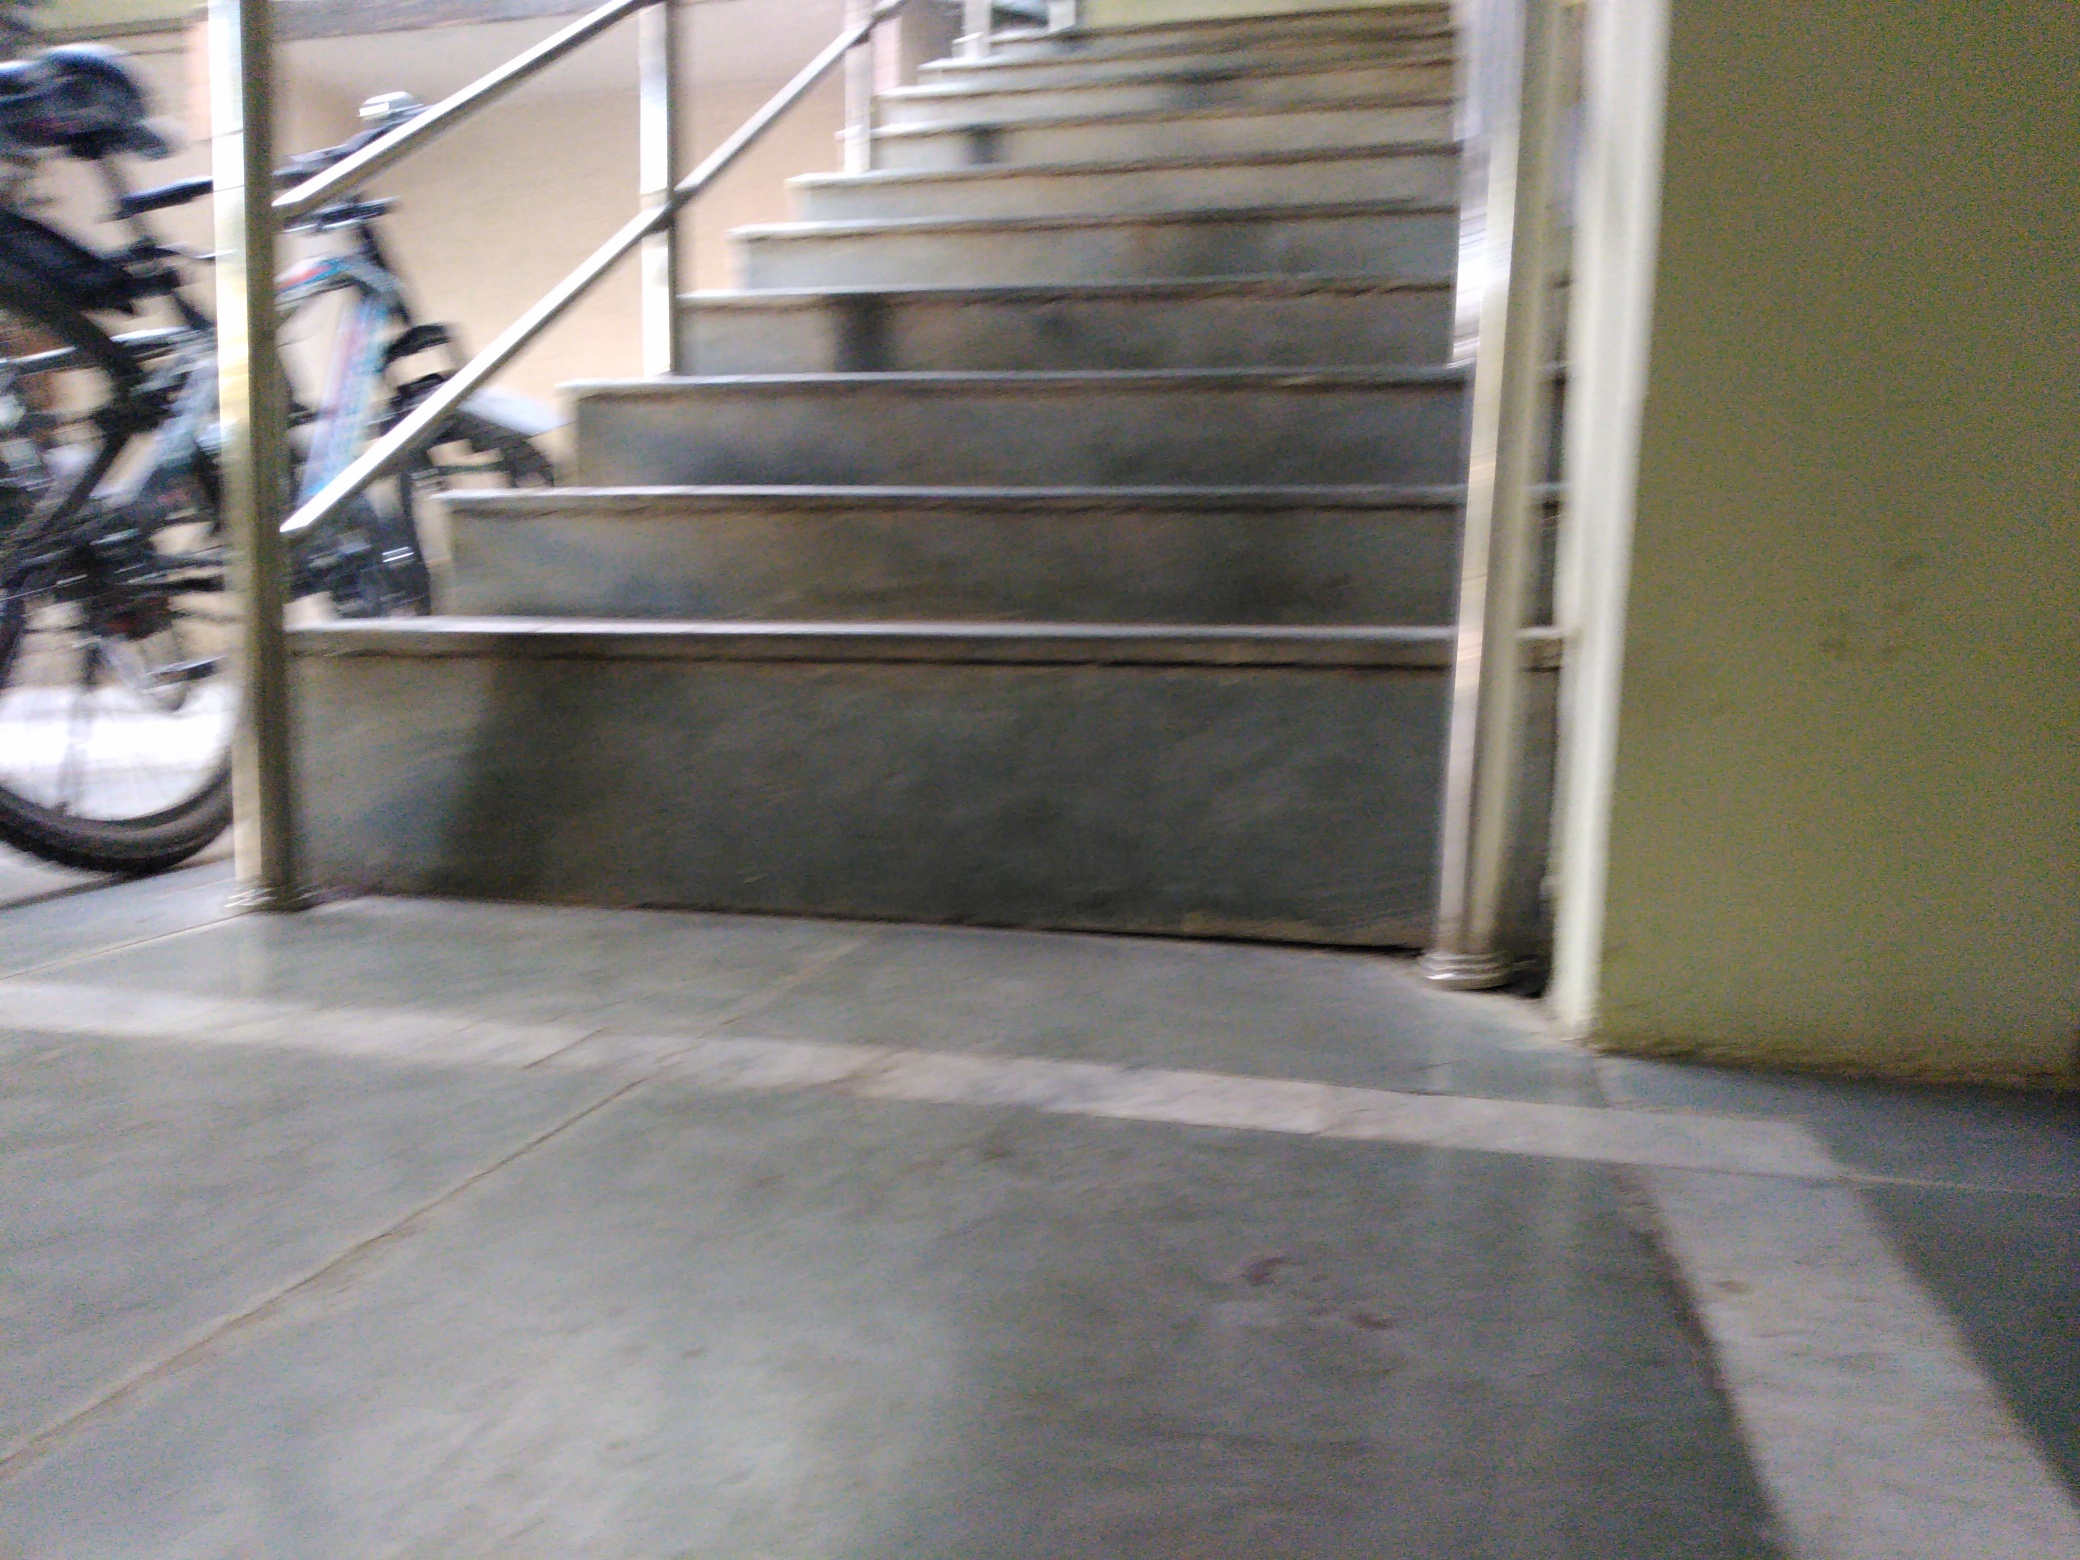stairs_up: (354, 7, 1477, 914)
